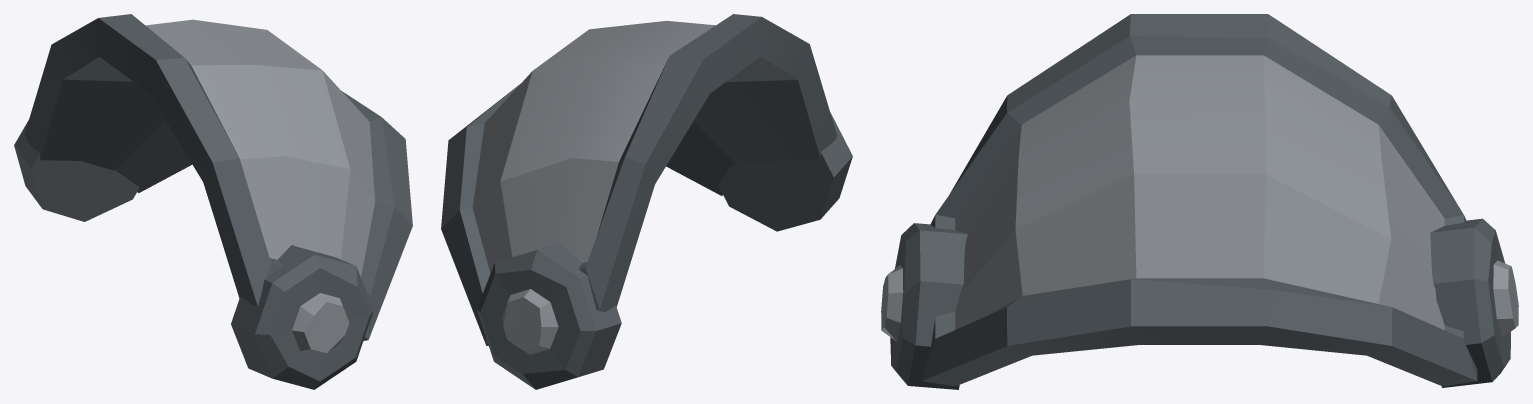
The model's file is Chr_ShoulderAttachLeft_21_Static.fbx.
3 renders of one model, left to right at view 1: azimuth 30°, elevation 25°; view 2: azimuth 150°, elevation 25°; view 3: azimuth 270°, elevation 25°, orthographic. The views are drawn at different scales.
Visible parts, largest first — view 1: Chr_ShoulderAttachLeft_21_Static; view 2: Chr_ShoulderAttachLeft_21_Static; view 3: Chr_ShoulderAttachLeft_21_Static.
Boxes of the visible parts, box(x1,y1,x2,y2) form: Chr_ShoulderAttachLeft_21_Static: box(14, 14, 412, 389); Chr_ShoulderAttachLeft_21_Static: box(441, 14, 852, 389); Chr_ShoulderAttachLeft_21_Static: box(881, 14, 1518, 389).
Size of the model in its own units: 0.2071 by 0.2193 by 0.3796.
